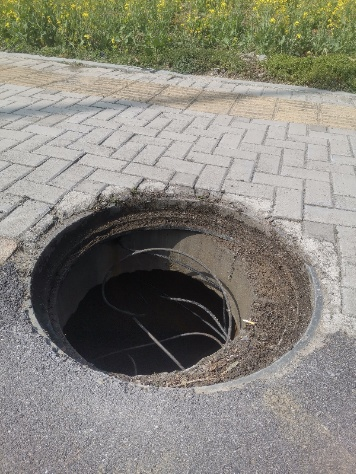lose: (27, 195, 324, 390)
